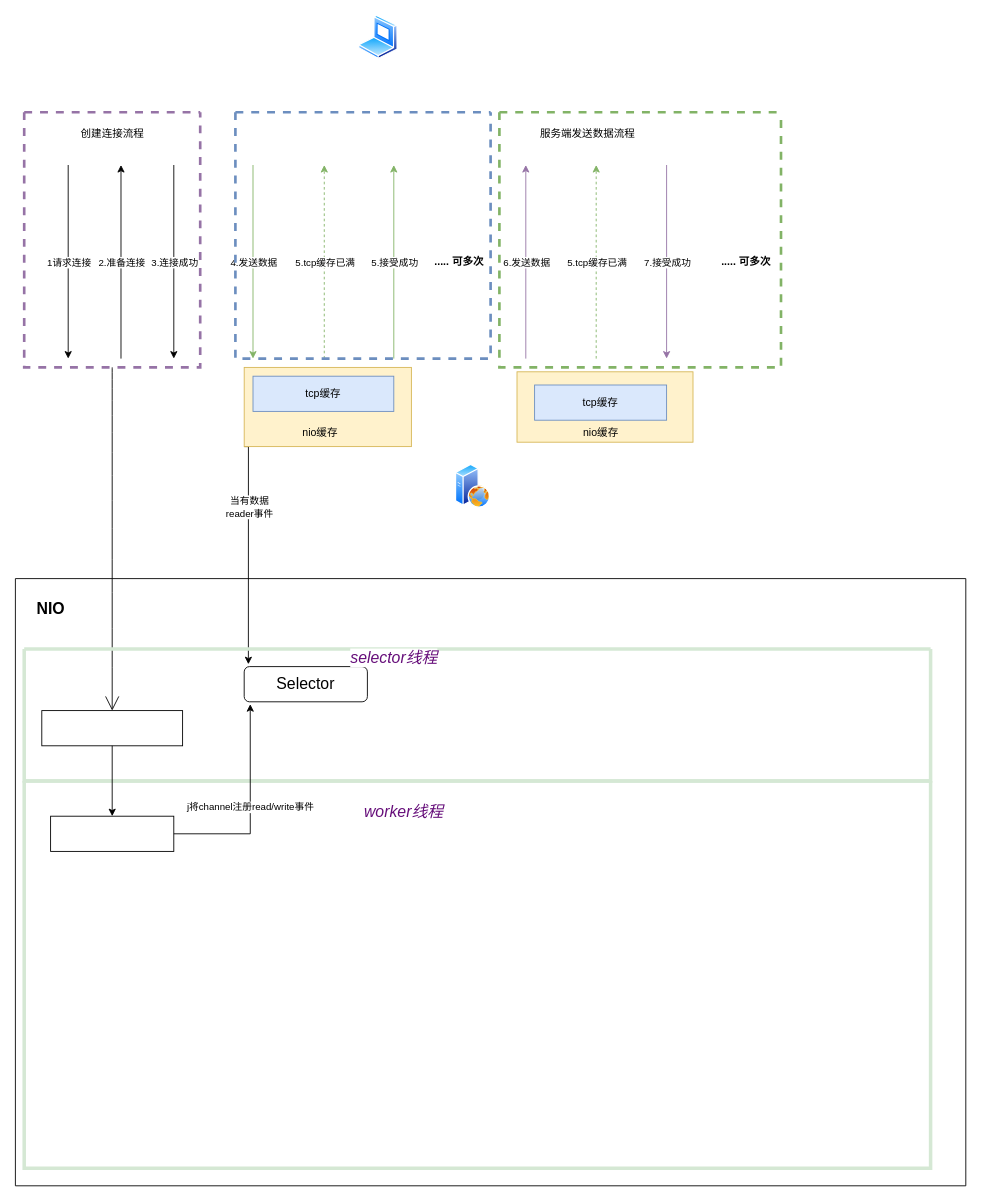
The diagram is 981 pixels wide and 1201 high, and some of its shapes have lost their labels. Here are the shapes that lost their labels. From the top down, the centre of each, then its label:
At point 362,234: "客户端发送数据流程".
At point 112,728: "ACCEPT事件".
At point 112,833: "server.accept".
